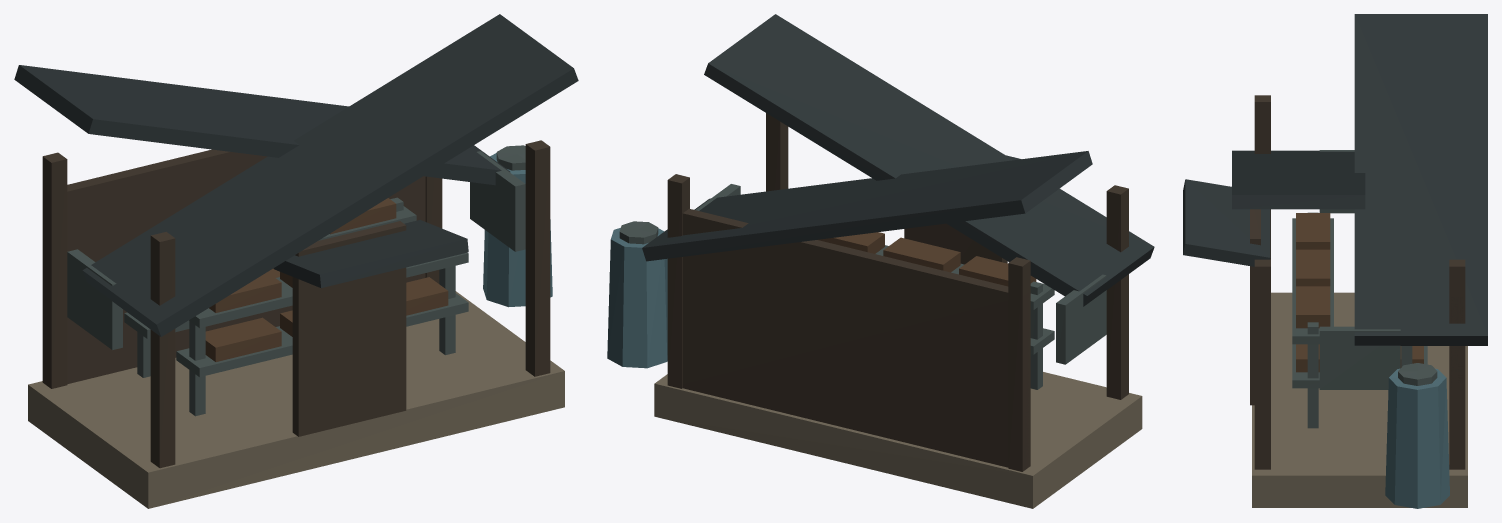
Rendered from Mushroom-House.glb.
3 views of the same model, side by side, from view 1: azimuth 30°, elevation 25°; view 2: azimuth 150°, elevation 25°; view 3: azimuth 270°, elevation 25° (orthographic). The views are drawn at different scales.
Parts seen in each view (by area): view 1: wind-pump-static-mushroom-house-roof, wind-pump-static-mushroom-house-dark-timber, wind-pump-static-mushroom-house-wall, wind-pump-static-mushroom-house-metal, wind-pump-static-mushroom-house-substrate, wind-pump-static-mushroom-house-water-barrel; view 2: wind-pump-static-mushroom-house-dark-timber, wind-pump-static-mushroom-house-roof, wind-pump-static-mushroom-house-wall, wind-pump-static-mushroom-house-water-barrel, wind-pump-static-mushroom-house-metal, wind-pump-static-mushroom-house-substrate; view 3: wind-pump-static-mushroom-house-roof, wind-pump-static-mushroom-house-wall, wind-pump-static-mushroom-house-dark-timber, wind-pump-static-mushroom-house-metal, wind-pump-static-mushroom-house-water-barrel, wind-pump-static-mushroom-house-substrate.
Part boxes in pixels (<box>): wind-pump-static-mushroom-house-roof: <box>14,14,578,336</box>; wind-pump-static-mushroom-house-dark-timber: <box>42,140,550,468</box>; wind-pump-static-mushroom-house-wall: <box>28,291,564,508</box>; wind-pump-static-mushroom-house-metal: <box>67,145,525,416</box>; wind-pump-static-mushroom-house-substrate: <box>205,198,448,361</box>; wind-pump-static-mushroom-house-water-barrel: <box>483,153,552,307</box>; wind-pump-static-mushroom-house-dark-timber: <box>667,113,1128,471</box>; wind-pump-static-mushroom-house-roof: <box>642,14,1154,306</box>; wind-pump-static-mushroom-house-wall: <box>654,372,1142,508</box>; wind-pump-static-mushroom-house-water-barrel: <box>607,228,667,368</box>; wind-pump-static-mushroom-house-metal: <box>619,184,1106,389</box>; wind-pump-static-mushroom-house-substrate: <box>818,232,1036,286</box>; wind-pump-static-mushroom-house-roof: <box>1183,14,1487,345</box>; wind-pump-static-mushroom-house-wall: <box>1252,292,1467,507</box>; wind-pump-static-mushroom-house-dark-timber: <box>1250,95,1465,469</box>; wind-pump-static-mushroom-house-metal: <box>1292,150,1437,428</box>; wind-pump-static-mushroom-house-water-barrel: <box>1385,368,1449,508</box>; wind-pump-static-mushroom-house-substrate: <box>1296,213,1423,372</box>.
Bounding box in the file's own units: 2.86 × 1.91 × 1.69.
